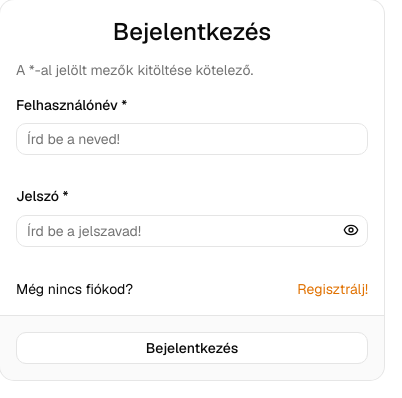
Test: LoginForm component › disables inputs and submit button during submission
The width and height of the screenshot is (402, 398).
Type "testuser" into the field labelled "Felhasználónév *" at point(192, 139), box [16,123,368,155]
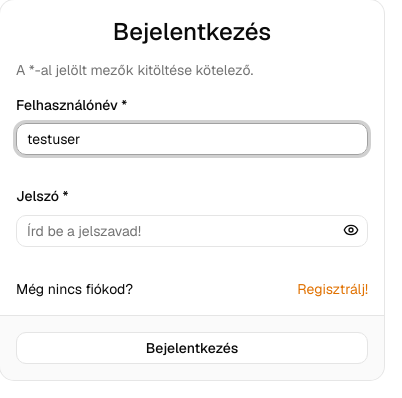
Type "Password1" into the password field labelled "Jelszó *" at point(192, 230), box [16,214,368,246]
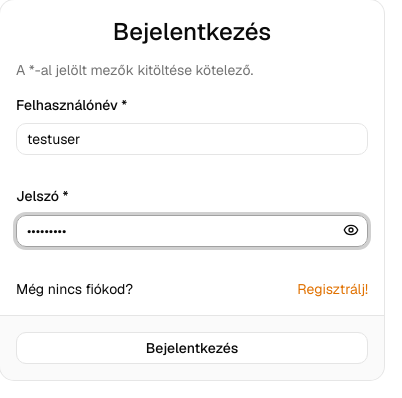
Click the button "Bejelentkezés" at point(192, 348), box [16,332,368,364]
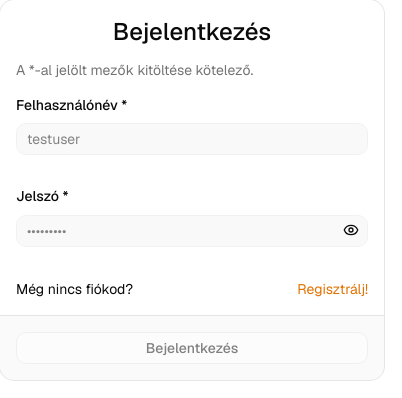
Check: the field labelled "Felhasználónév *" is disabled, box [16,123,368,155]
Check: the password field labelled "Jelszó *" is disabled, box [16,214,368,246]
Check: the button "Bejelentkezés" is disabled, box [16,332,368,364]
